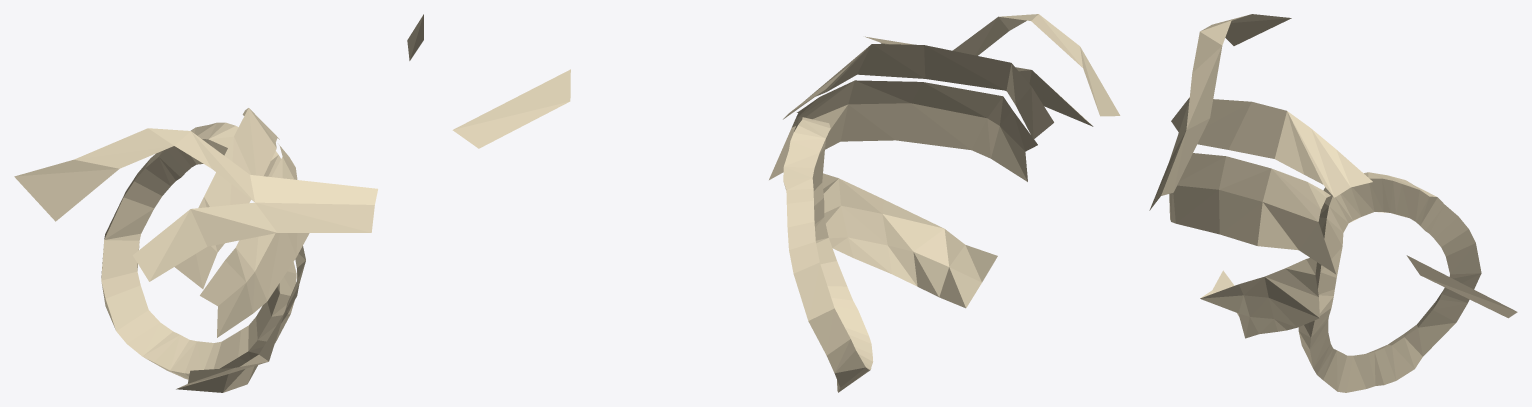
Rendered from z-upper-limb-ligament.glb.
3 renders of one model, left to right at view 1: azimuth 30°, elevation 25°; view 2: azimuth 150°, elevation 25°; view 3: azimuth 270°, elevation 25°, orthographic. The views are drawn at different scales.
Parts seen in each view (by area): view 1: z-coracohumeral-ligament-r, z-glenoid-labrum-r, z-middle-glenohumeral-ligament-r, z-superior-glenohumeral-ligament-r, z-inferior-glenohumeral-ligament-r, z-superior-transverse-scapular-ligament-r; view 2: z-middle-glenohumeral-ligament-r, z-glenoid-labrum-r, z-inferior-glenohumeral-ligament-r, z-superior-glenohumeral-ligament-r, z-coracohumeral-ligament-r, z-superior-transverse-scapular-ligament-r; view 3: z-glenoid-labrum-r, z-middle-glenohumeral-ligament-r, z-superior-glenohumeral-ligament-r, z-inferior-glenohumeral-ligament-r, z-coracohumeral-ligament-r, z-superior-transverse-scapular-ligament-r.
Part boxes in pixels (x1=…): z-coracohumeral-ligament-r: x1=14, y1=128, x2=377, y2=281; z-glenoid-labrum-r: x1=101, y1=122, x2=296, y2=379; z-middle-glenohumeral-ligament-r: x1=200, y1=145, x2=309, y2=337; z-superior-glenohumeral-ligament-r: x1=174, y1=108, x2=279, y2=288; z-inferior-glenohumeral-ligament-r: x1=176, y1=246, x2=305, y2=392; z-superior-transverse-scapular-ligament-r: x1=407, y1=14, x2=423, y2=60; z-middle-glenohumeral-ligament-r: x1=769, y1=80, x2=1037, y2=181; z-glenoid-labrum-r: x1=783, y1=116, x2=873, y2=392; z-inferior-glenohumeral-ligament-r: x1=822, y1=173, x2=997, y2=308; z-superior-glenohumeral-ligament-r: x1=783, y1=44, x2=1053, y2=139; z-coracohumeral-ligament-r: x1=865, y1=14, x2=1120, y2=126; z-superior-transverse-scapular-ligament-r: x1=452, y1=69, x2=570, y2=148; z-glenoid-labrum-r: x1=1298, y1=172, x2=1481, y2=392; z-middle-glenohumeral-ligament-r: x1=1169, y1=153, x2=1335, y2=274; z-superior-glenohumeral-ligament-r: x1=1197, y1=99, x2=1372, y2=197; z-inferior-glenohumeral-ligament-r: x1=1200, y1=258, x2=1319, y2=338; z-coracohumeral-ligament-r: x1=1149, y1=14, x2=1291, y2=210; z-superior-transverse-scapular-ligament-r: x1=1406, y1=255, x2=1517, y2=318.
Bounding box in the file's own units: 0.7881 × 0.4763 × 0.5066.
